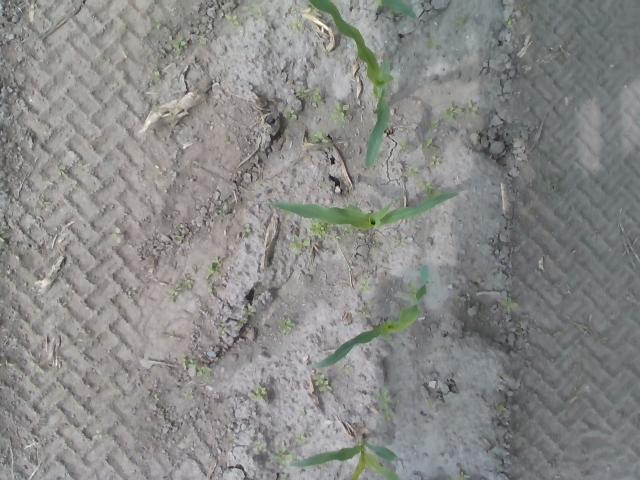Maize: (308, 0, 394, 167), (306, 264, 429, 372), (268, 190, 458, 232), (290, 429, 402, 480), (371, 0, 416, 18)
Weeds: (372, 386, 400, 422), (442, 100, 480, 122), (180, 356, 210, 377), (208, 255, 222, 295), (168, 277, 194, 297), (289, 233, 311, 255), (295, 88, 323, 105), (312, 372, 332, 392), (330, 101, 351, 118), (309, 220, 328, 238), (401, 283, 416, 302), (272, 451, 292, 465), (419, 136, 436, 152), (278, 318, 294, 334), (419, 179, 434, 194), (502, 297, 514, 315), (312, 130, 330, 142), (111, 226, 122, 244), (250, 3, 264, 17), (495, 400, 507, 415), (255, 387, 268, 400), (226, 14, 240, 26), (175, 38, 188, 50), (456, 471, 472, 480), (0, 359, 16, 368), (454, 16, 467, 27), (398, 140, 408, 154), (291, 18, 302, 30), (286, 110, 298, 121), (242, 304, 255, 314), (359, 280, 369, 292), (430, 154, 440, 166), (426, 40, 438, 50), (407, 166, 418, 176), (233, 319, 246, 327), (296, 434, 306, 444), (431, 120, 440, 130), (244, 222, 252, 232), (155, 18, 161, 30), (504, 17, 513, 25), (0, 230, 5, 244), (58, 168, 66, 176), (154, 70, 160, 80)
